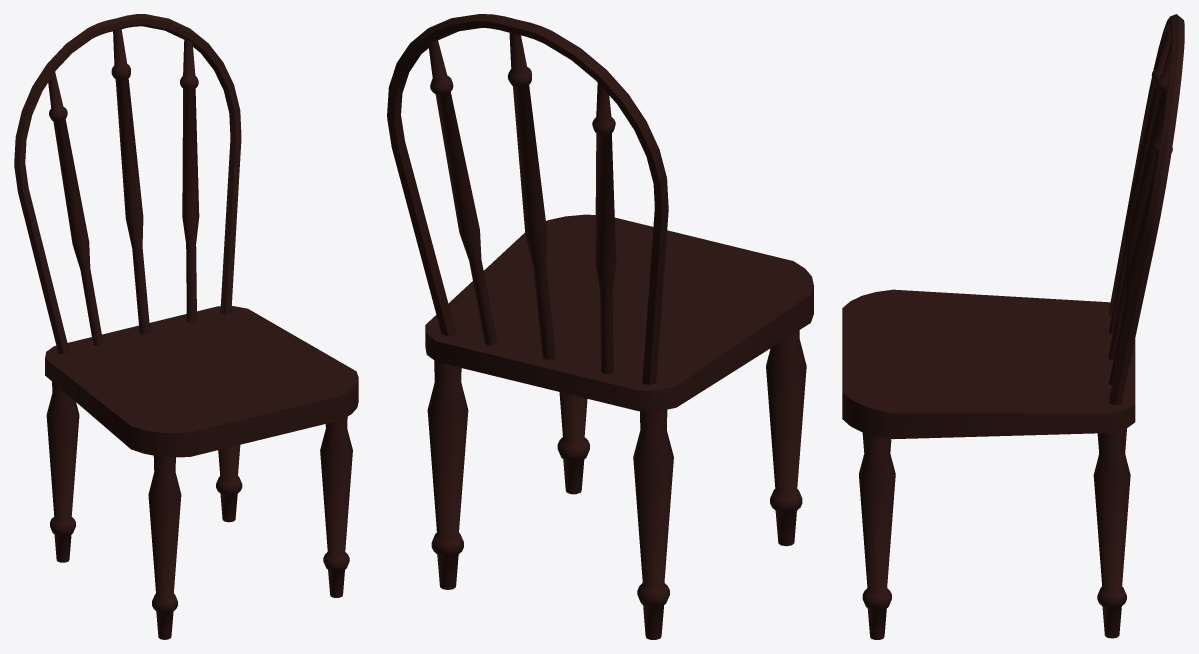
Rendered from Chaise.FBX.
3 views of the same model, side by side, from view 1: azimuth 30°, elevation 25°; view 2: azimuth 150°, elevation 25°; view 3: azimuth 270°, elevation 25° (orthographic). The views are drawn at different scales.
Parts seen in each view (by area): view 1: Chaise; view 2: Chaise; view 3: Chaise.
Part boxes in pixels (x1,y1,x2,y2): Chaise: (14,14,358,639); Chaise: (387,14,813,639); Chaise: (842,14,1184,639).
Bounding box in the file's own units: 73.43 × 155 × 85.68.
